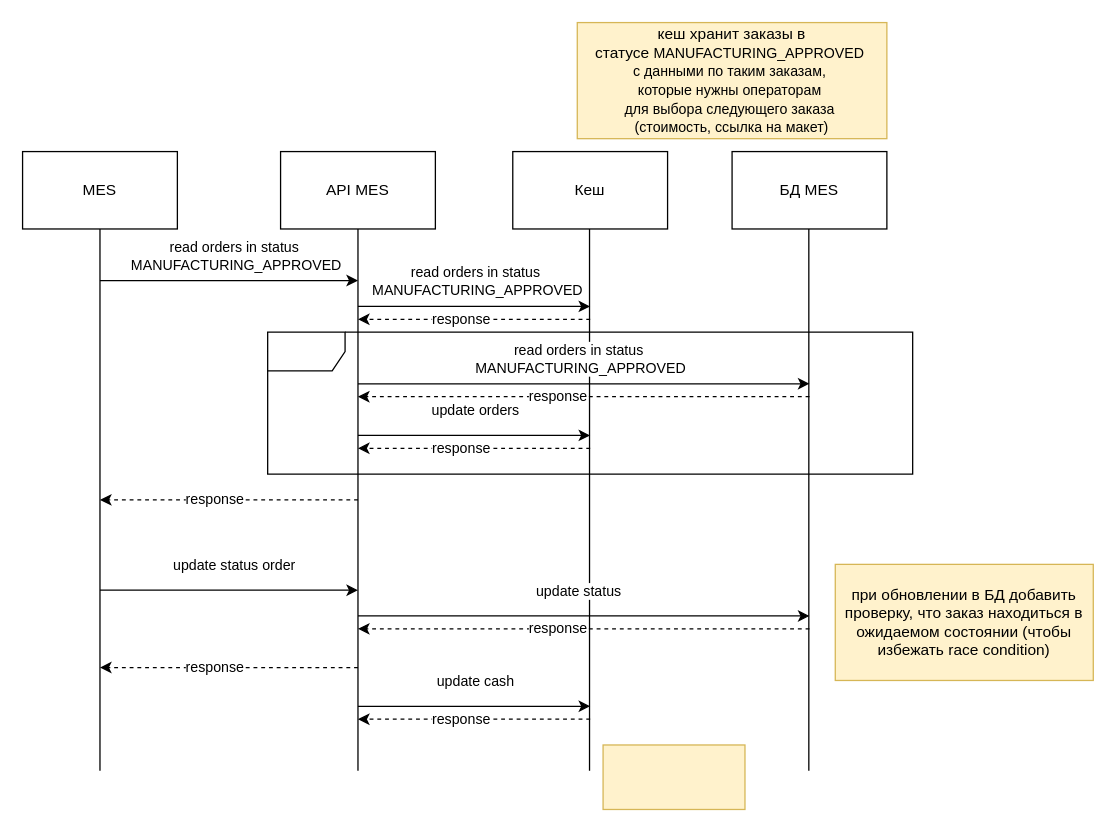
This 1116x832 diagram has some shape labels left out. Here are the shapes that lost their labels. From the top down, the centre of each, then its label:
At (589,402): "empty list".
At (673,776): "кеш также обновляется по расписанию".
